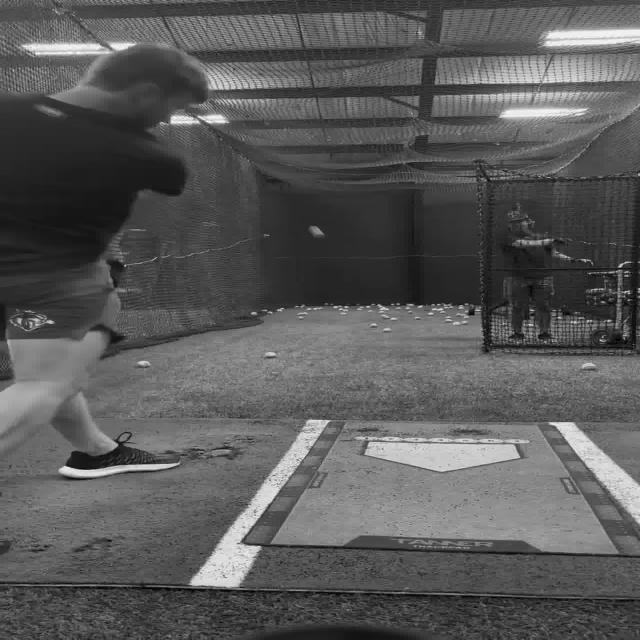base: (362, 438, 522, 472)
baseball: (308, 225, 324, 238), (580, 362, 596, 370), (136, 360, 150, 368), (264, 351, 276, 358), (369, 323, 377, 328), (382, 328, 391, 332)
shoe: (57, 433, 181, 479), (503, 332, 525, 344), (536, 332, 558, 344)
